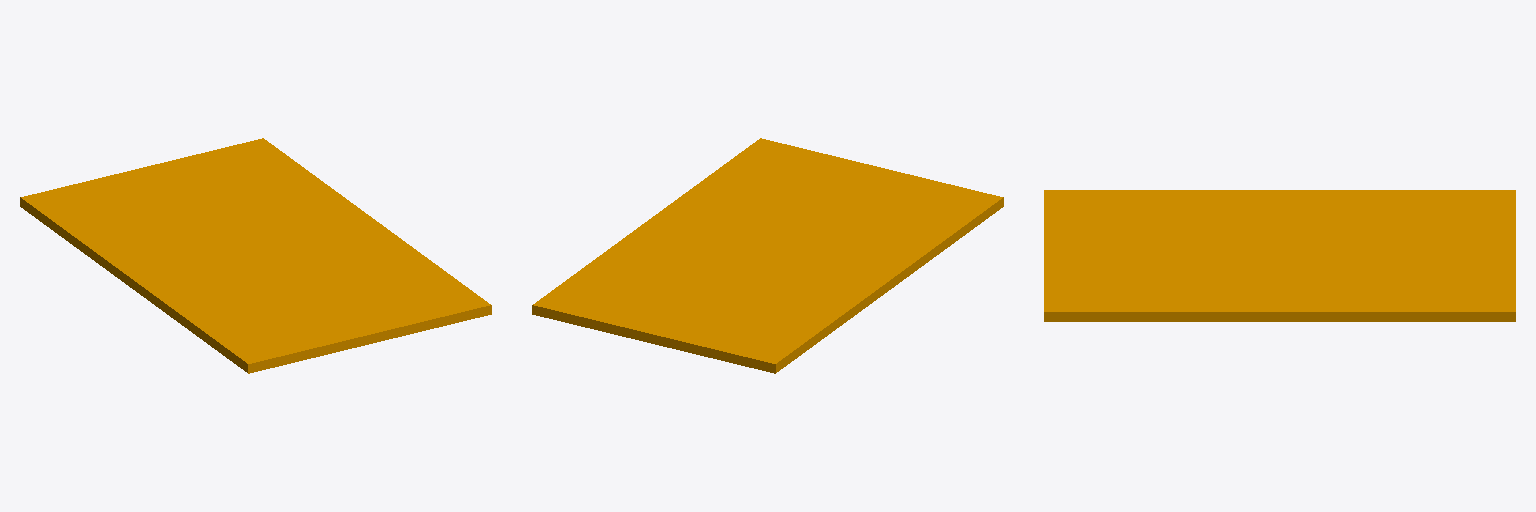
URDF robot description (my_table):
<?xml version="1.0"?>
<robot name="my_table">
    <link name="my_table">
        <visual>
            <geometry>
                <mesh filename="../mesh/my_table.obj" scale="1 1 1"/>
            </geometry>
        </visual>
        <collision>
            <geometry>
                <mesh filename="../mesh/my_table.obj" scale="1 1 1"/>
            </geometry>
        </collision>
        <!-- <inertial>
            <mass value="1."/>
            <inertia ixx="0.0001" ixy="0.0" ixz="0.0" iyy="0.0001" iyz="0.0" izz="0.0001"/>
        </inertial> -->
    </link>
</robot>

--- Render facts (derived) ---
Views: 3 orthographic renders of the robot side by side, from view 1: azimuth 30°, elevation 25°; view 2: azimuth 150°, elevation 25°; view 3: azimuth 270°, elevation 25°.
Robot: my_table — 1 links, 0 joints (none); root link my_table; default pose: all joints at 0.
Visible links, largest first — view 1: my_table; view 2: my_table; view 3: my_table.
Boxes of the visible links, x1,y1,x2,y2 form: my_table: [20, 138, 491, 373]; my_table: [532, 138, 1003, 373]; my_table: [1044, 190, 1515, 321].
Bounding box of the posed robot: 1.6 × 2.6 × 0.06 m (x, y, z).
Meshes: 1 distinct files referenced, 1 mesh visuals loaded (1 OBJ).
